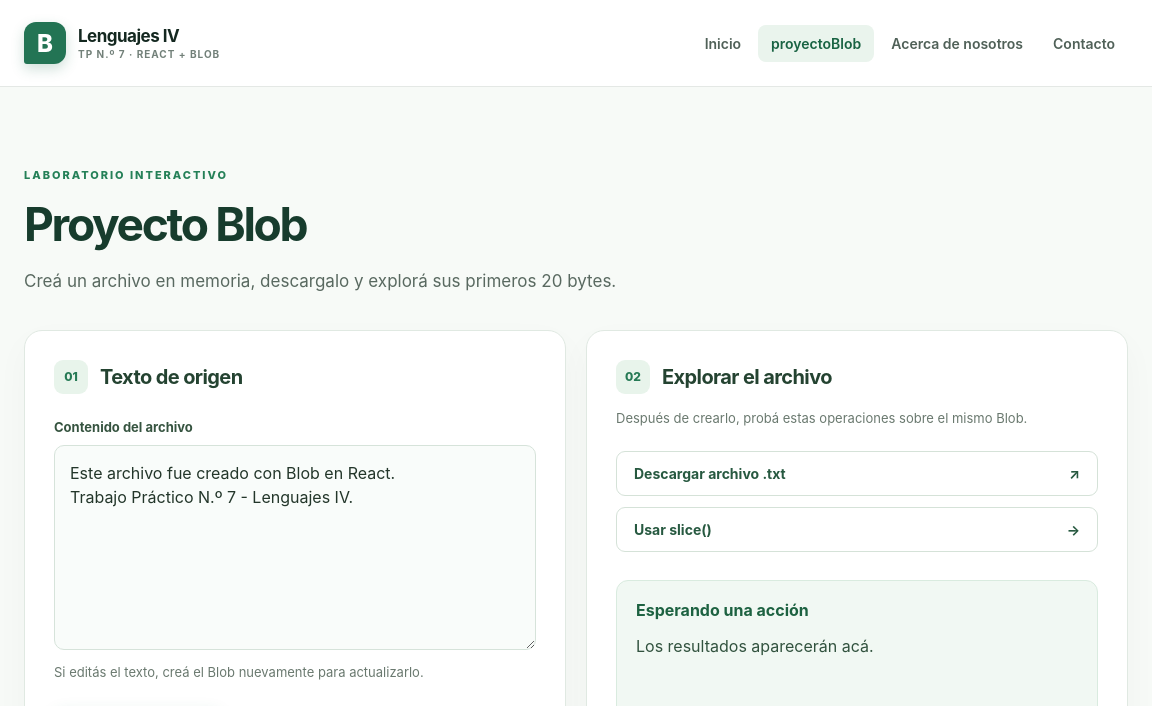
Test: avisa si se intenta usar slice antes de crear el Blob
Click the button "Usar slice() →". click: (673, 530)
box: [616,507,1098,552]
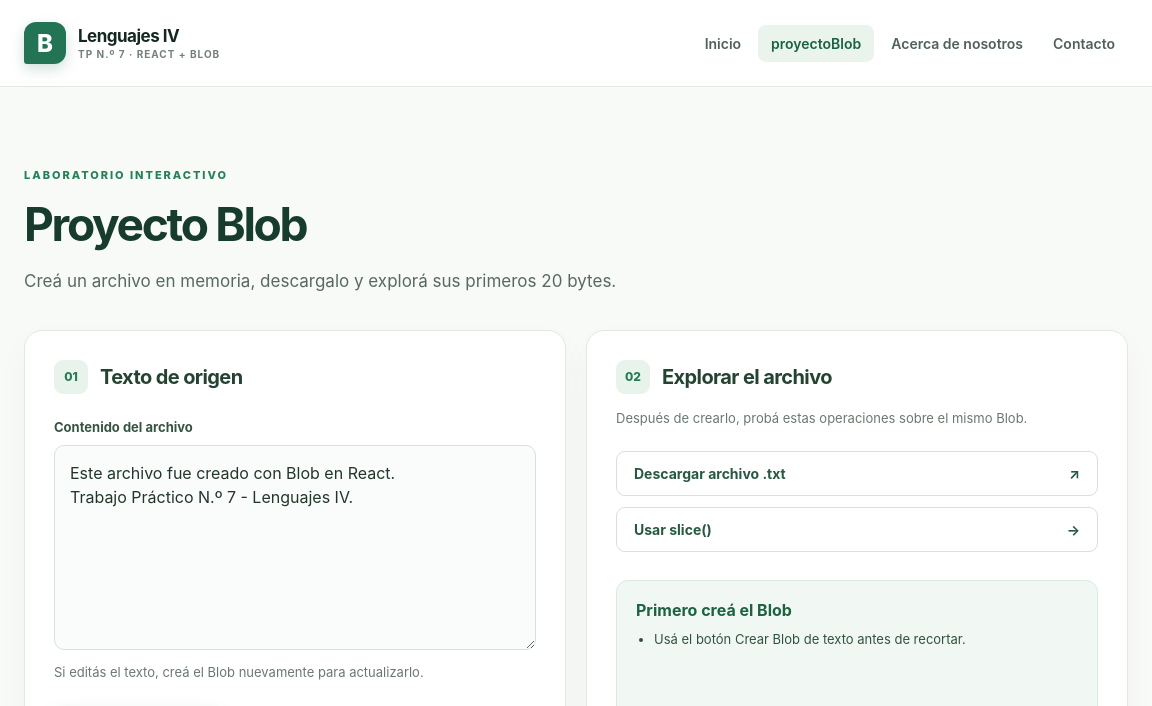
Expected: the text "Primero creá el Blob" is shown, [636,600,792,620]
